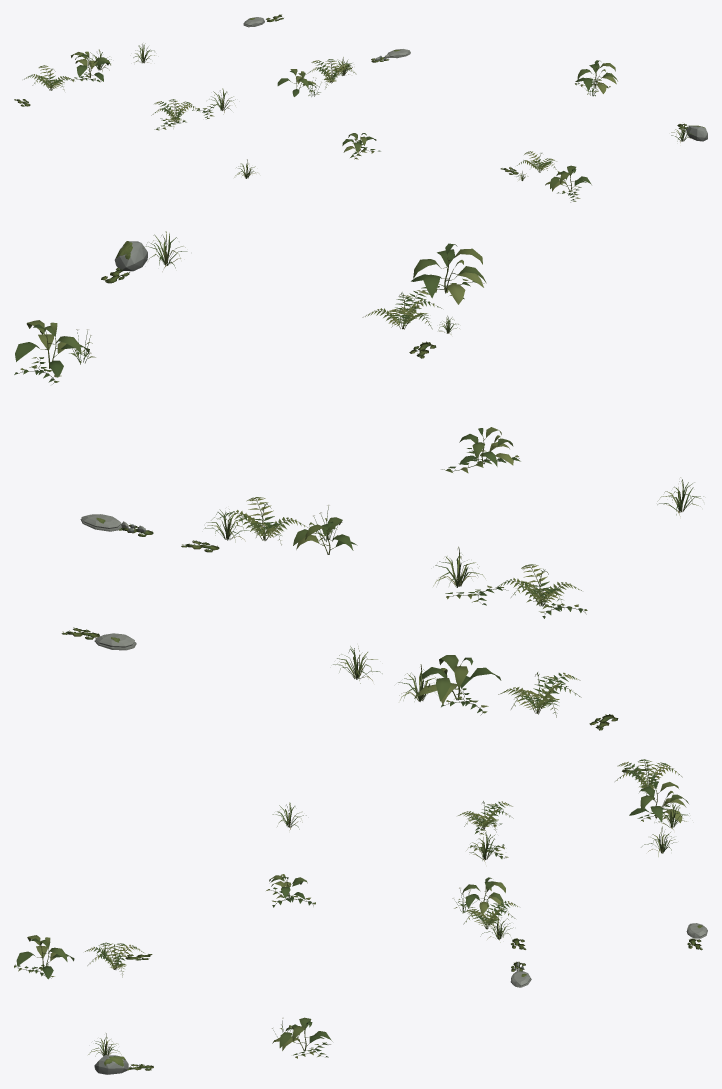
File: dressing_stage19.glb
3 views of the same model, one above another, from view 1: azimuth 30°, elevation 25°; view 2: azimuth 150°, elevation 25°; view 3: azimuth 270°, elevation 25° (orthographic). The views are drawn at different scales.
Parts seen in each view (by area): view 1: stage1_dressing_foliage, stage1_dressing_rocks; view 2: stage1_dressing_foliage, stage1_dressing_rocks; view 3: stage1_dressing_foliage, stage1_dressing_rocks.
Boxes of the visible parts, x1=… form: stage1_dressing_foliage: x1=14, y1=14, x2=692, y2=202; stage1_dressing_rocks: x1=243, y1=17, x2=707, y2=141; stage1_dressing_foliage: x1=14, y1=231, x2=703, y2=730; stage1_dressing_rocks: x1=80, y1=241, x2=147, y2=650; stage1_dressing_foliage: x1=14, y1=759, x2=702, y2=1070; stage1_dressing_rocks: x1=94, y1=923, x2=707, y2=1074.
Size of the model in its own units: 8.21 by 0.4278 by 7.87.
